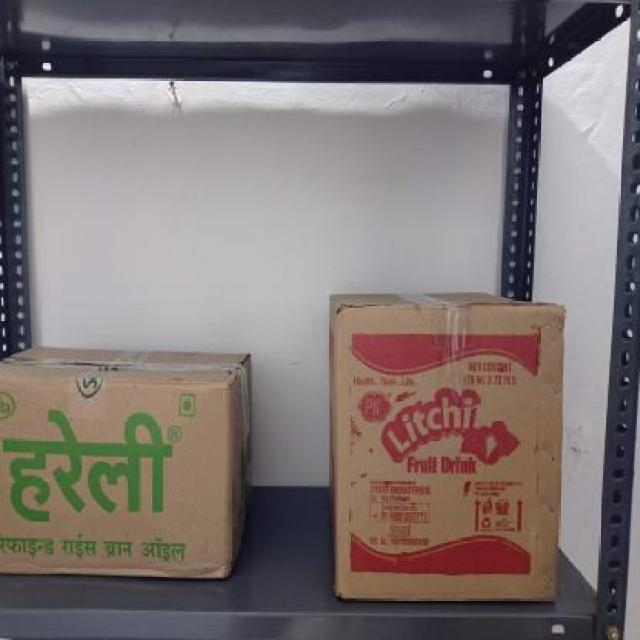box: (330, 305, 556, 601), (0, 382, 231, 581)
